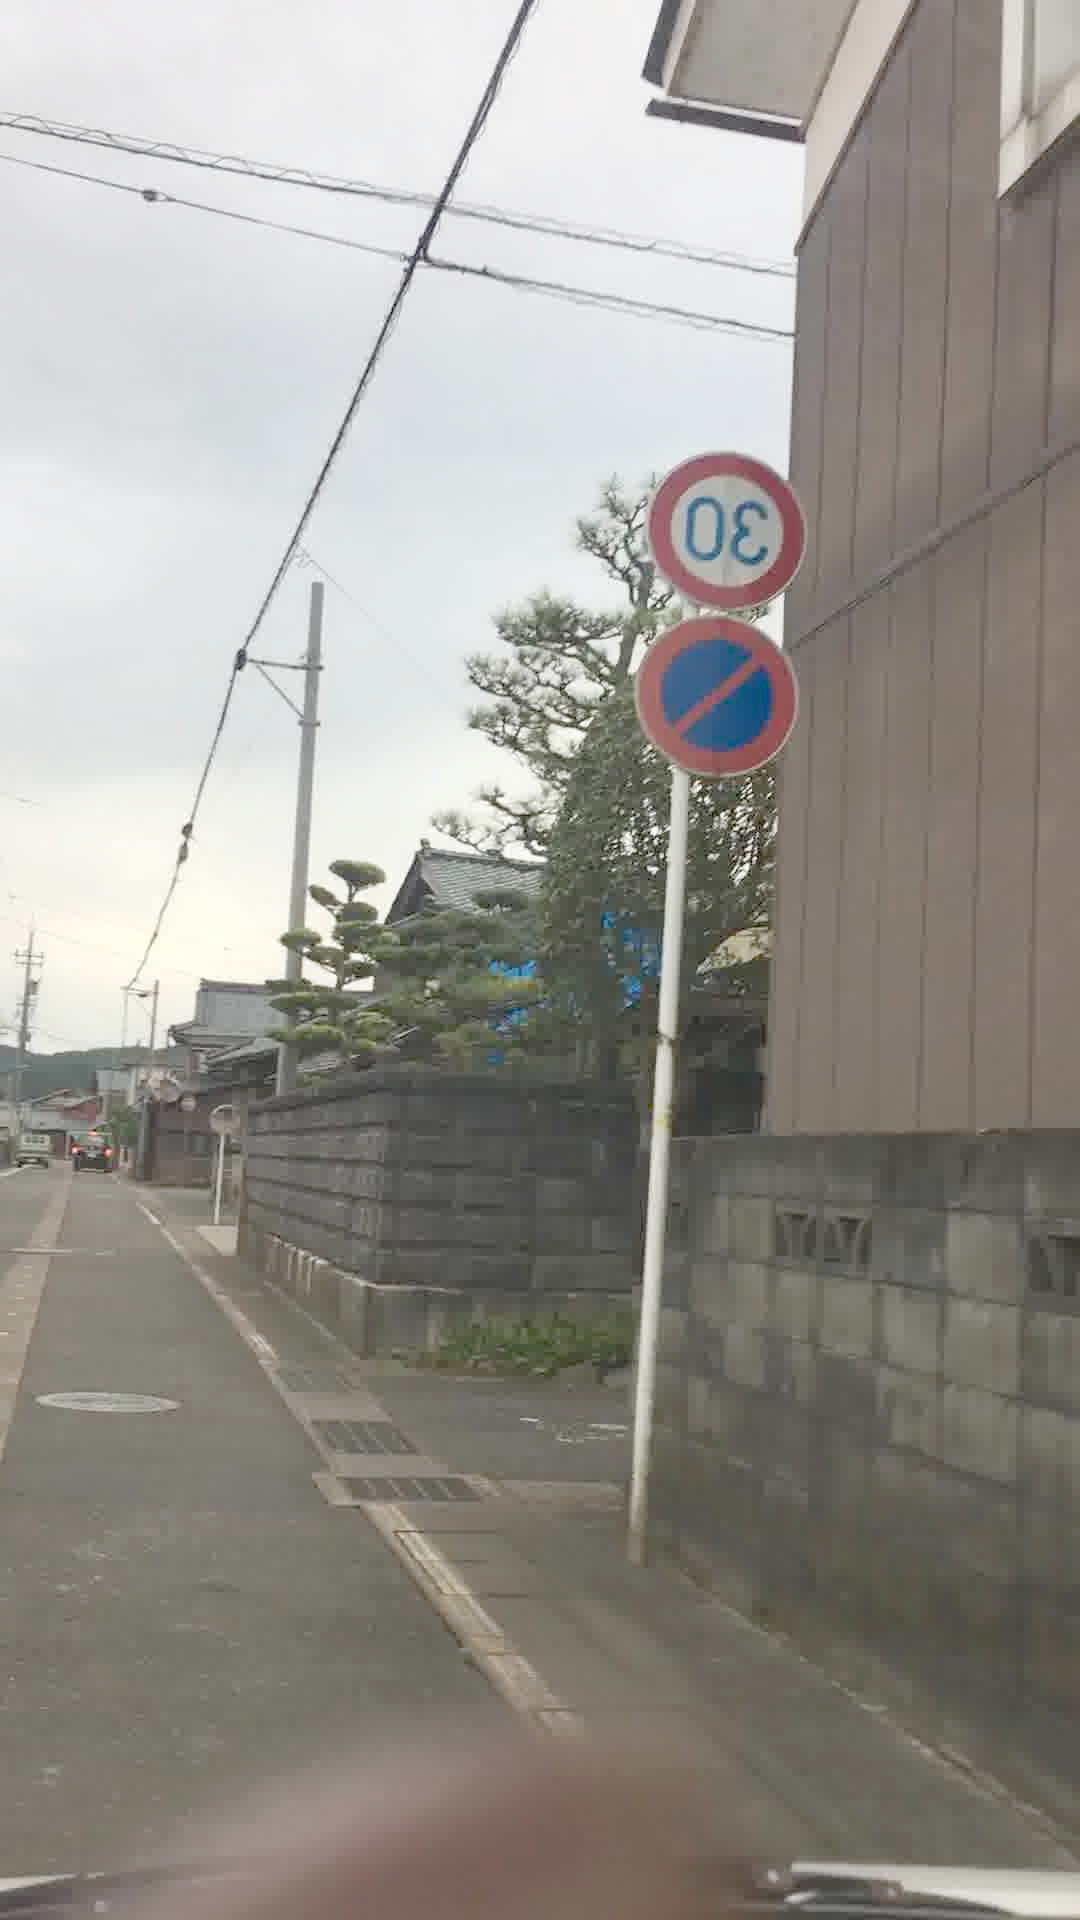Prohibition_sign: (638, 620, 810, 790)
Speed_sign: (636, 448, 812, 632)
